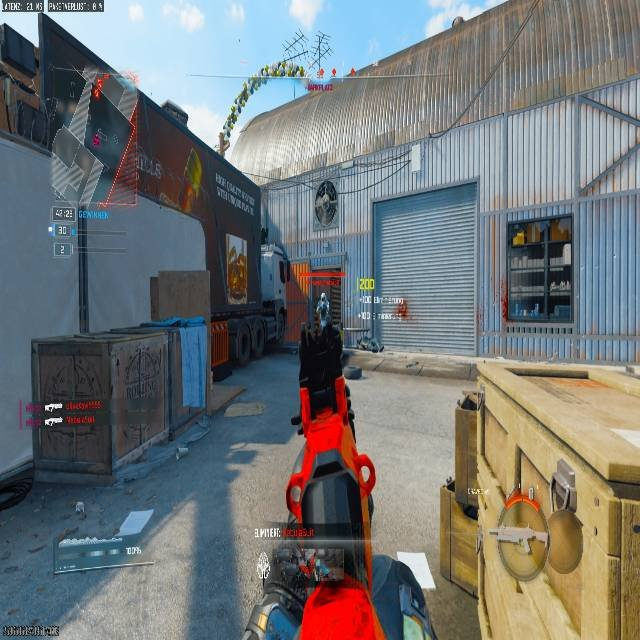player: (313, 178, 339, 228), (228, 254, 246, 297), (313, 292, 330, 330)
